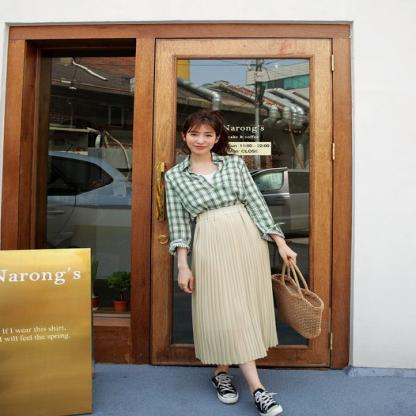dress: (185, 205, 281, 367), (164, 154, 282, 248)
